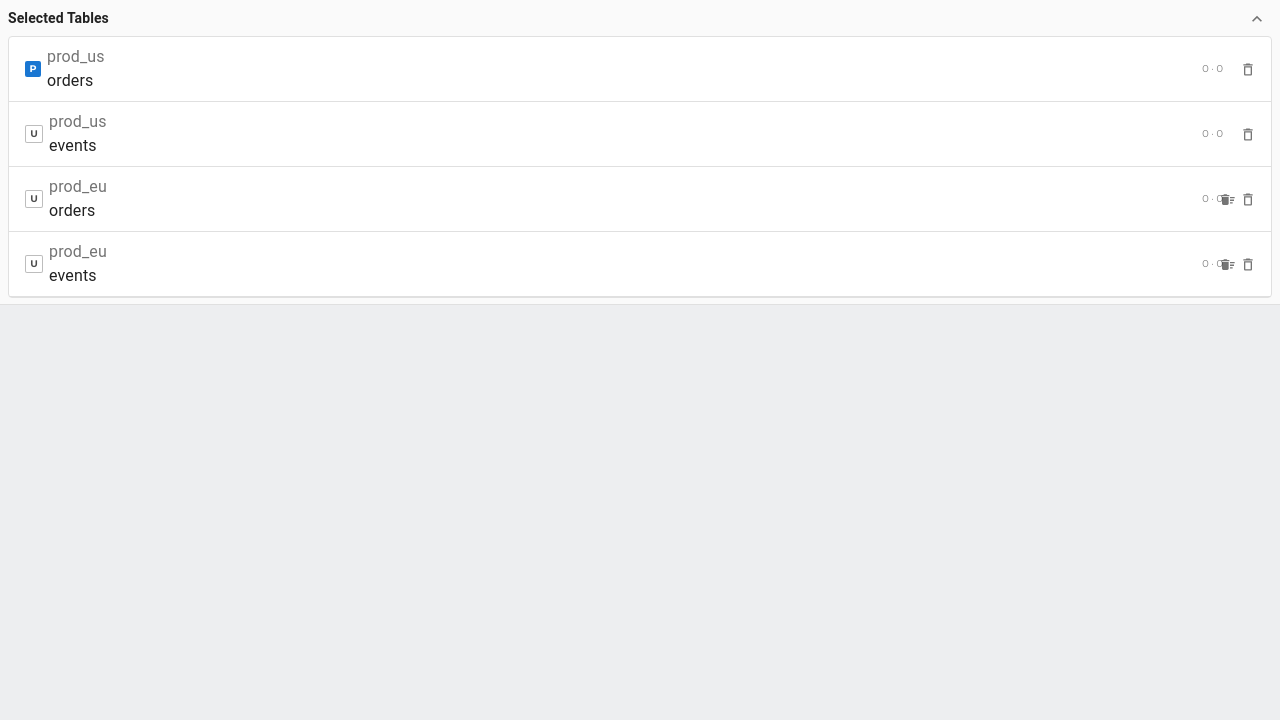
Test: SelectedTablesList — remove a whole database › names the tables in the confirmation
Click the 1st button named "Remove all tables from prod_eu" at (1228, 200), box [1218,190,1238,210]
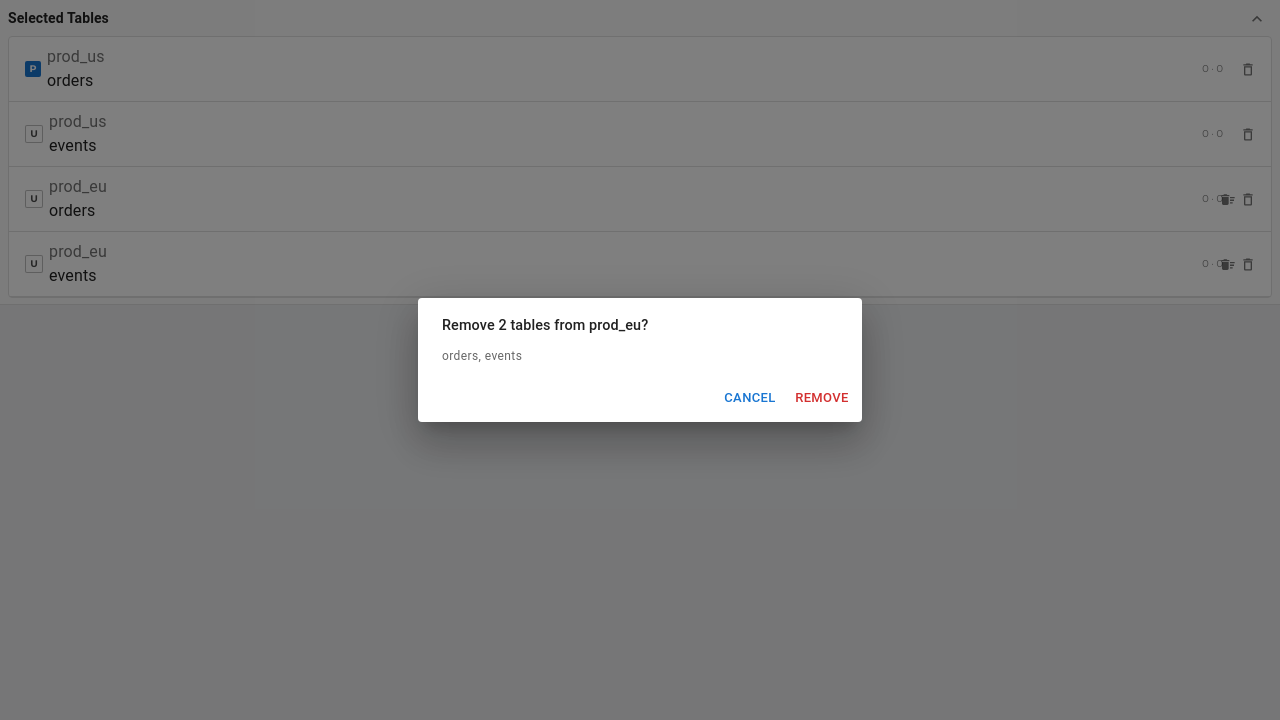
Now the text "orders, events" is shown, box [442,349,522,363]
